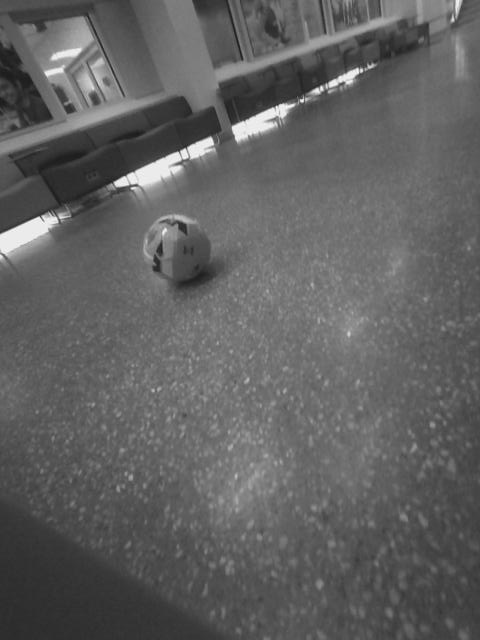ball: (139, 211, 216, 290)
